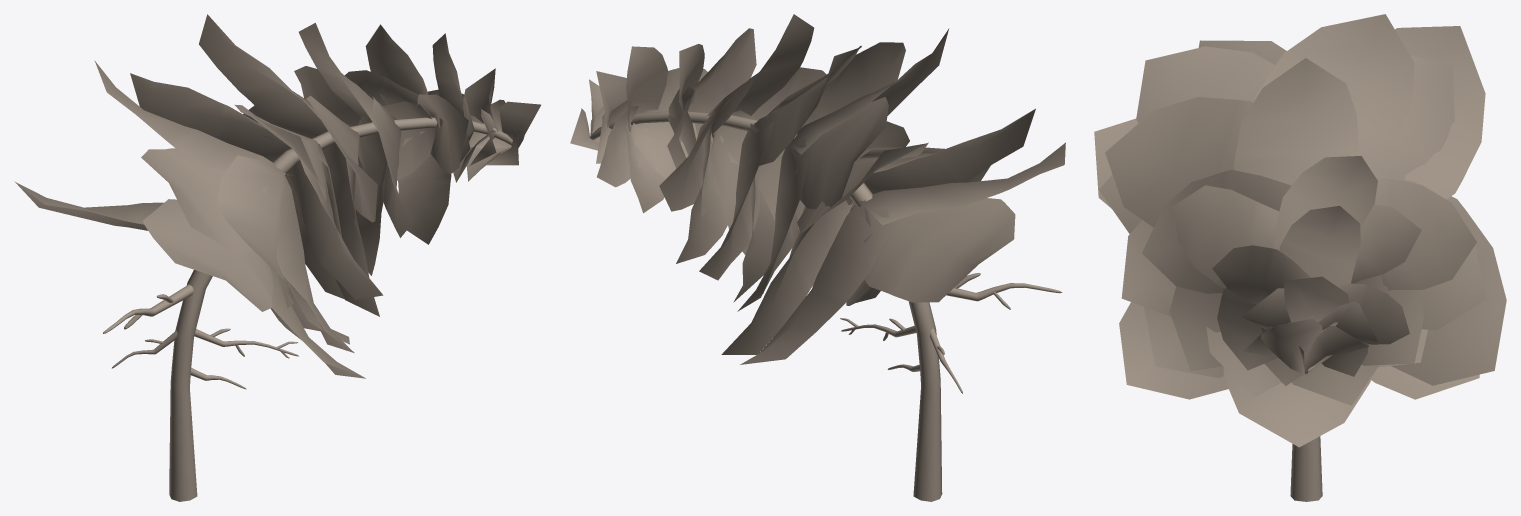
File: PineTree_4.glb
3 renders of one model, left to right at view 1: azimuth 30°, elevation 25°; view 2: azimuth 150°, elevation 25°; view 3: azimuth 270°, elevation 25°, orthographic. The views are drawn at different scales.
Parts seen in each view (by area): view 1: PineTree_Leaves, PineTree_Bark; view 2: PineTree_Leaves, PineTree_Bark; view 3: PineTree_Leaves, PineTree_Bark.
Part boxes in pixels (x1,y1,x2,y2): PineTree_Leaves: (14,14,540,378); PineTree_Bark: (103,117,512,501); PineTree_Leaves: (570,14,1065,364); PineTree_Bark: (590,111,1062,501); PineTree_Leaves: (1094,14,1506,447); PineTree_Bark: (1290,370,1322,501).
Size of the model in its own units: 4.84 by 4.48 by 3.25.
